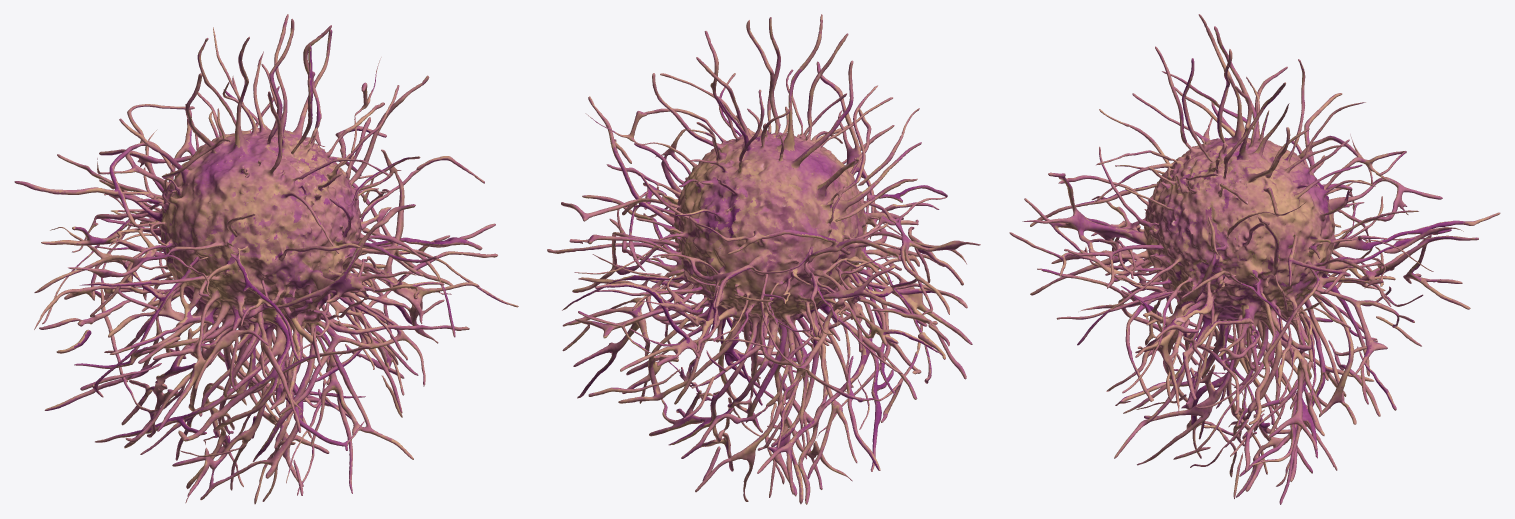
The model's file is LiverCancerCell.glb.
The picture shows the model from 3 angles, left to right: view 1: azimuth 30°, elevation 25°; view 2: azimuth 150°, elevation 25°; view 3: azimuth 270°, elevation 25°; orthographic projection. The views are drawn at different scales.
Parts seen in each view (by area): view 1: Mesh1; view 2: Mesh1; view 3: Mesh1.
Boxes of the visible parts, bbox=[...] form: Mesh1: bbox=[14, 14, 518, 504]; Mesh1: bbox=[547, 14, 980, 504]; Mesh1: bbox=[1009, 14, 1500, 504].
Bounding box in the file's own units: 9.27 × 9.8 × 9.55.
Materials: 1 (1 with a texture image).
